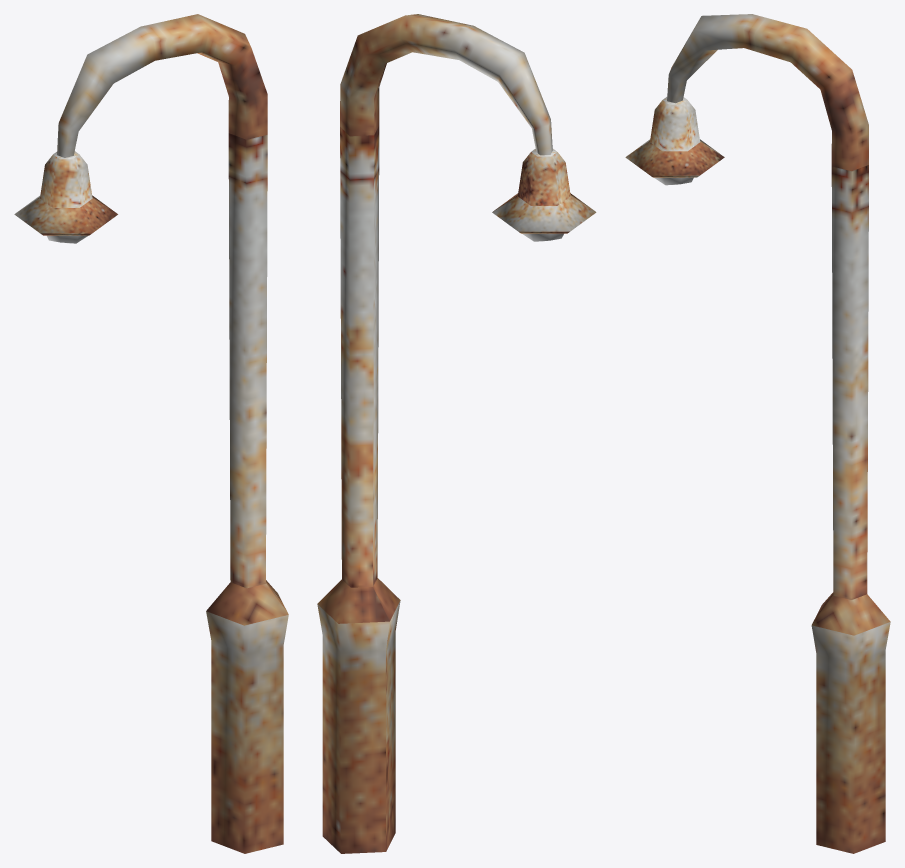
Rendered from Streetlight.fbx.
3 views of the same model, side by side, from view 1: azimuth 30°, elevation 25°; view 2: azimuth 150°, elevation 25°; view 3: azimuth 330°, elevation 25° (orthographic). The views are drawn at different scales.
Visible parts, largest first — view 1: Streetlight; view 2: Streetlight; view 3: Streetlight.
Part boxes in pixels (x1,y1,x2,y2): Streetlight: (14, 14, 288, 853); Streetlight: (317, 14, 596, 853); Streetlight: (625, 14, 890, 853).
Size of the model in its own units: 0.9378 by 2.9 by 0.3283.
